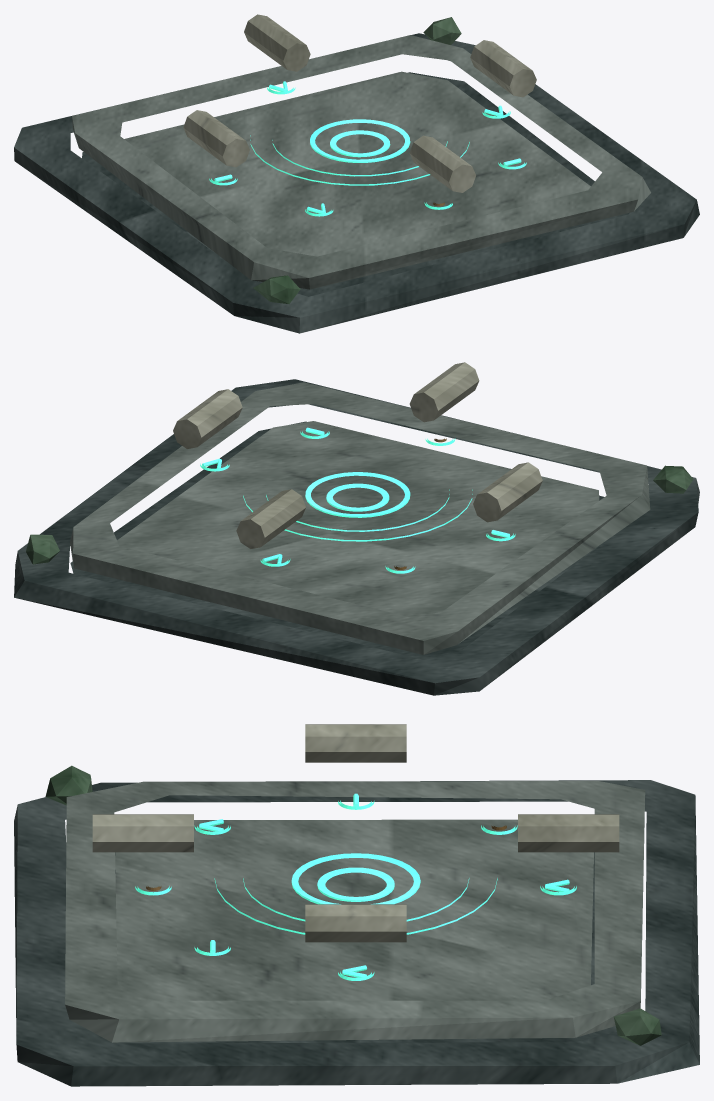
Rendered from 0554_rune_dais_04.glb.
3 renders of one model, top to bottom at view 1: azimuth 30°, elevation 25°; view 2: azimuth 150°, elevation 25°; view 3: azimuth 270°, elevation 25°, orthographic. The views are drawn at different scales.
Visible parts, largest first — view 1: stone, stone_dark, stone_light, glow, moss; view 2: stone, stone_dark, stone_light, glow, moss; view 3: stone, stone_dark, stone_light, glow, moss.
Boxes of the visible parts, x1,y1,x2,y2 form: stone: [72, 35, 650, 289]; stone_dark: [14, 33, 699, 333]; stone_light: [183, 14, 536, 192]; glow: [209, 81, 526, 216]; moss: [253, 17, 461, 303]; stone: [70, 382, 650, 654]; stone_dark: [14, 379, 699, 695]; stone_light: [173, 362, 542, 548]; glow: [200, 427, 515, 573]; moss: [26, 465, 693, 564]; stone: [65, 781, 645, 1042]; stone_dark: [14, 780, 699, 1086]; stone_light: [92, 724, 619, 942]; glow: [135, 793, 576, 980]; moss: [45, 765, 661, 1045].
Size of the model in its own units: 3.37 by 0.708 by 3.39.
Materials: 6 (6 with a texture image).
